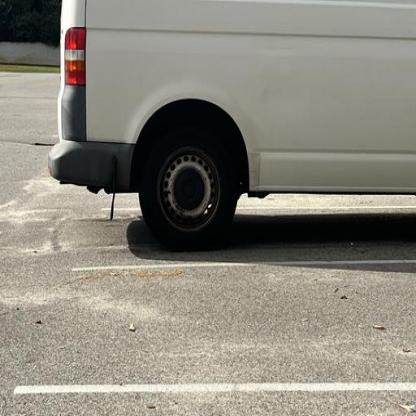Tire: (138, 122, 239, 252)
